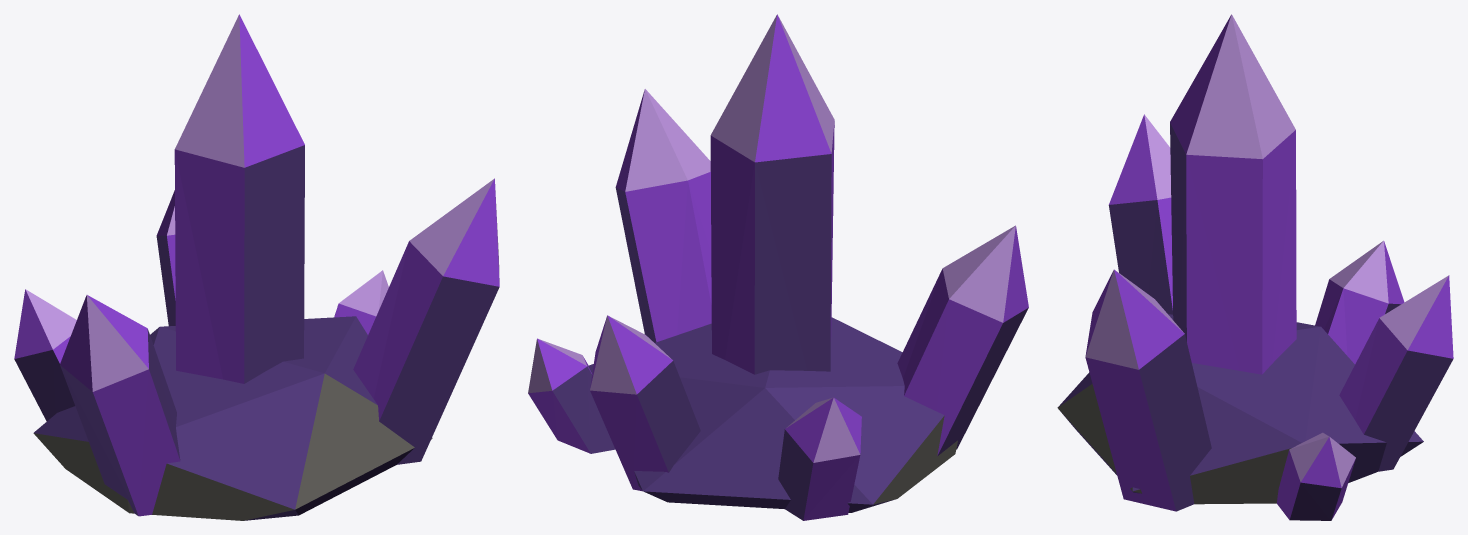
The model's file is gloom_crystal.glb.
3 views of the same model, side by side, from view 1: azimuth 30°, elevation 25°; view 2: azimuth 150°, elevation 25°; view 3: azimuth 270°, elevation 25° (orthographic). The views are drawn at different scales.
Visible parts, largest first — view 1: gloom_crystal; view 2: gloom_crystal; view 3: gloom_crystal.
Boxes of the visible parts, x1=… form: gloom_crystal: x1=14, y1=14, x2=499, y2=520; gloom_crystal: x1=528, y1=14, x2=1028, y2=520; gloom_crystal: x1=1057, y1=14, x2=1453, y2=520.
Size of the model in its own units: 0.5476 by 0.55 by 0.4642.
